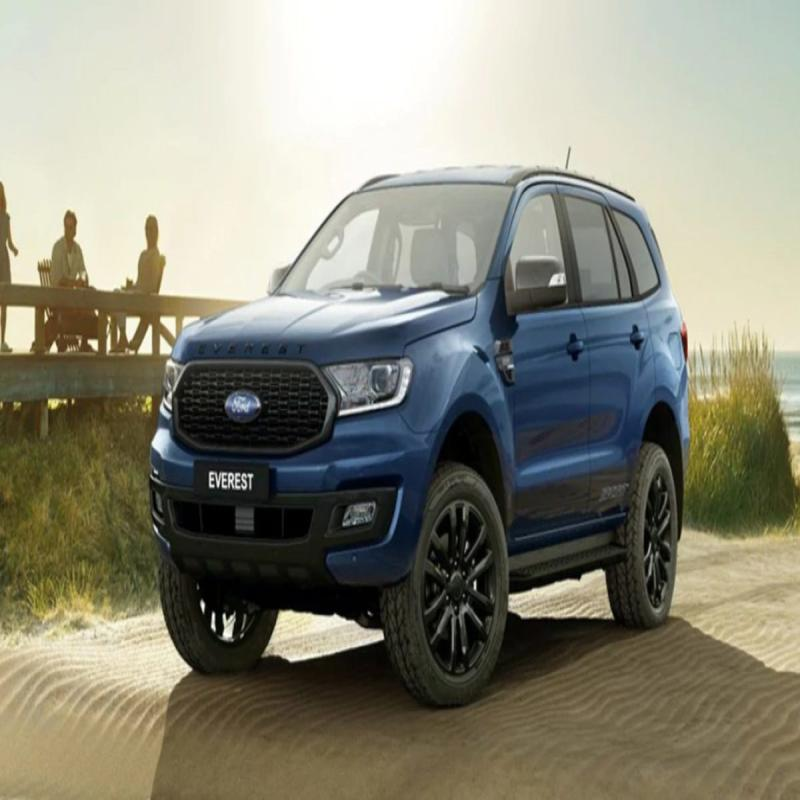car: (146, 152, 720, 702)
